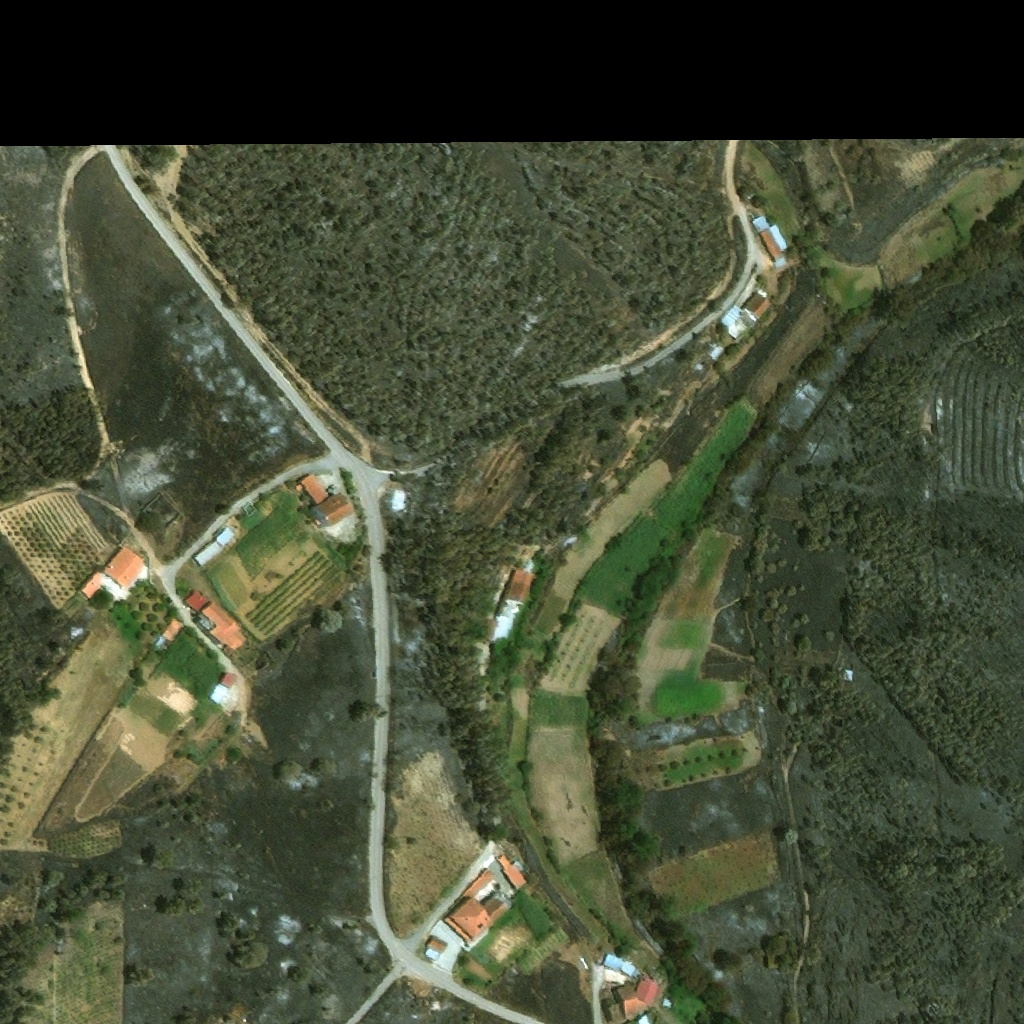0 no-damage: (443, 896, 493, 942), (202, 600, 246, 651), (104, 546, 143, 587), (717, 305, 756, 340), (315, 490, 353, 525), (614, 982, 648, 1019), (505, 567, 535, 604), (496, 854, 527, 888), (295, 472, 328, 503), (461, 868, 495, 897), (743, 288, 772, 318), (193, 539, 223, 565), (637, 975, 661, 1004), (758, 230, 781, 260), (486, 895, 510, 922), (425, 935, 448, 960), (162, 618, 186, 641), (476, 615, 497, 641), (184, 590, 207, 611), (208, 683, 228, 705), (603, 952, 626, 970), (706, 342, 726, 362), (216, 527, 236, 546), (80, 579, 99, 598), (218, 671, 237, 689), (604, 999, 621, 1019), (753, 216, 771, 234), (621, 961, 637, 976), (637, 1014, 651, 1023), (633, 968, 642, 979)
1 minor-damage: (842, 668, 854, 682)
3 destroyed: (394, 487, 411, 509)
